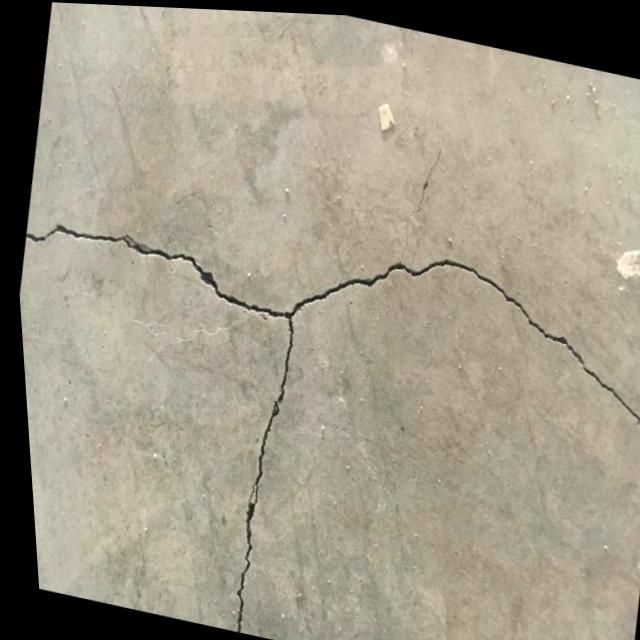Crack: (274, 222, 640, 436), (9, 167, 306, 365), (196, 356, 318, 640)
